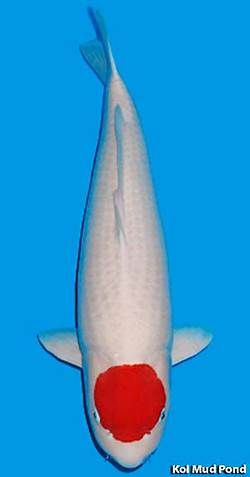sun: (37, 5, 211, 470)
